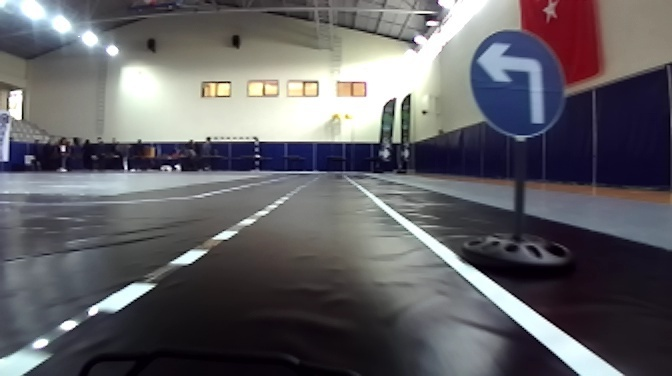sola_donus: (470, 30, 569, 129)
